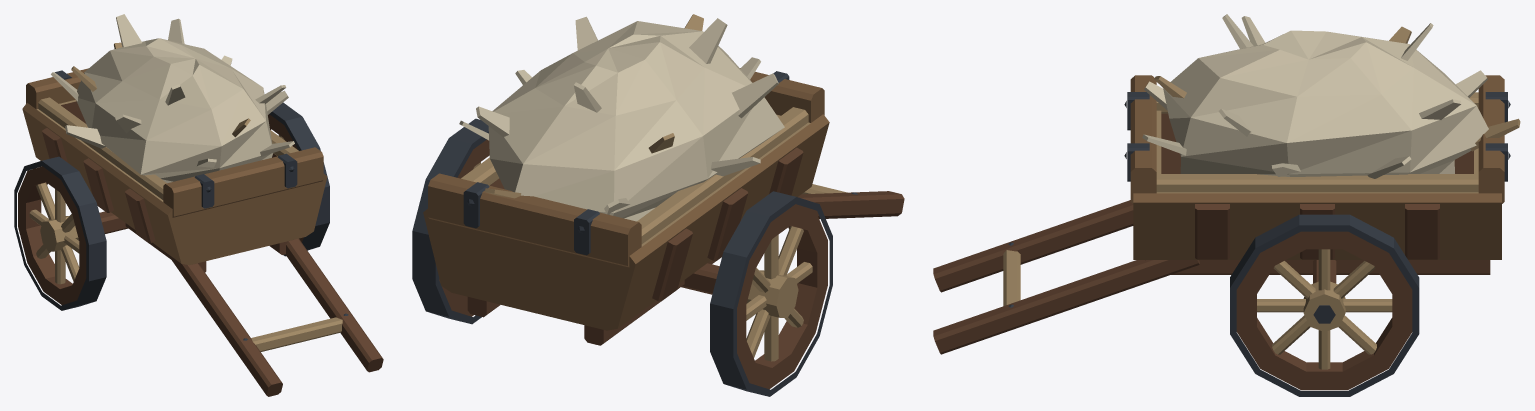
Rendered from wooden-cart-bf83d8.glb.
The picture shows the model from 3 angles, left to right: view 1: azimuth 30°, elevation 25°; view 2: azimuth 150°, elevation 25°; view 3: azimuth 270°, elevation 25°; orthographic projection. The views are drawn at different scales.
Visible parts, largest first — view 1: cart-body, hay-mound, wheel-left-mesh, wheel-right-mesh; view 2: cart-body, hay-mound, wheel-left-mesh, wheel-right-mesh; view 3: cart-body, hay-mound, wheel-right-mesh.
Part boxes in pixels (bbox=[...]): cart-body: bbox=[22, 68, 383, 396]; hay-mound: bbox=[51, 14, 294, 183]; wheel-left-mesh: bbox=[14, 156, 106, 310]; wheel-right-mesh: bbox=[268, 102, 329, 256]; cart-body: bbox=[423, 68, 904, 345]; hay-mound: bbox=[459, 14, 784, 221]; wheel-left-mesh: bbox=[710, 191, 832, 396]; wheel-right-mesh: bbox=[412, 118, 489, 324]; cart-body: bbox=[933, 75, 1510, 354]; hay-mound: bbox=[1142, 14, 1520, 178]; wheel-right-mesh: bbox=[1230, 214, 1419, 396].
Size of the model in its own units: 1.57 by 1.39 by 2.52.
